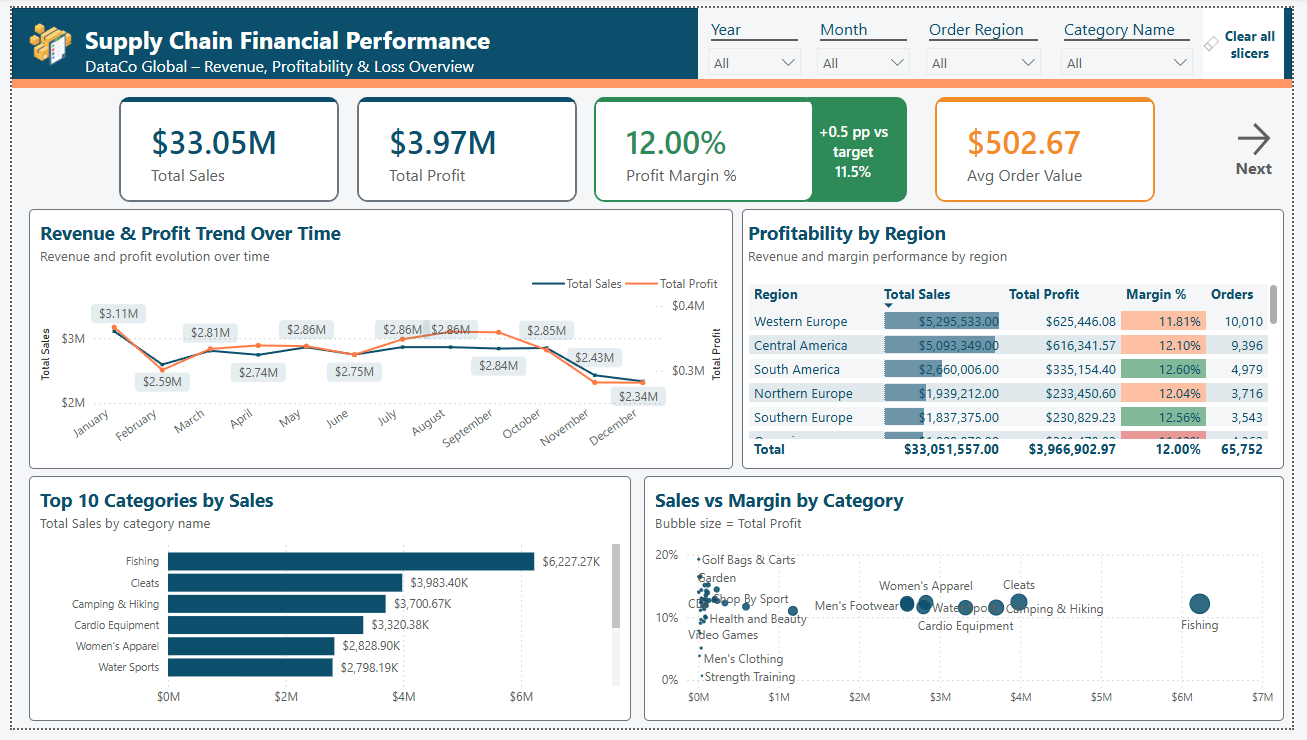

The page's visual inventory and layout, read from the dashboard file:
{"tool":"powerbi","page":{"name":"Supply Chain Executive & Profitability","canvas":[1280,720],"ordinal":0},"visuals":[{"type":"shape","box":[0,0,1280,80],"z":0},{"type":"cardVisual","fields":{"Data":["_Measures.Total Sales"]},"box":[107,88.8,220,105],"z":1000},{"type":"textbox","box":[58,0,618,74],"z":2000},{"type":"image","box":[16.7,14.2,43.3,44.2],"z":3000},{"type":"actionButton","box":[1187,0,85,71],"z":4000},{"type":"cardVisual","fields":{"Data":["_Measures.Total Profit"]},"box":[345,89,220,105],"z":5000},{"type":"cardVisual","fields":{"Data":["_Measures.ProfitMarginDelta"]},"box":[787.1,88.8,108,105],"z":6000},{"type":"cardVisual","fields":{"Data":["_Measures.Profit Margin %"]},"box":[582,88.8,220,105],"z":7000},{"type":"clusteredBarChart","title":"Top 10 Categories by Sales","fields":{"Category":["dim_products.category_name"],"Y":["_Measures.Total Sales"]},"box":[17,468,602,245],"z":8000},{"type":"cardVisual","fields":{"Data":["_Measures.Avg Order Value"]},"box":[923,88.8,220,105],"z":9000},{"type":"slicer","fields":{"Values":["dim_date.Year"]},"box":[686,0,112.9,72.9],"z":10000},{"type":"slicer","fields":{"Values":["dim_date.Month Short"]},"box":[795.2,0,112.7,80],"z":11000},{"type":"slicer","fields":{"Values":["fact_orders.order_region"]},"box":[904,0,135,79],"z":12000},{"type":"slicer","fields":{"Values":["dim_products.category_name"]},"box":[1039,0,152,80],"z":13000},{"type":"shape","box":[0,71.2,1280,8.8],"z":14000},{"type":"lineChart","title":"Revenue & Profit Trend Over Time","fields":{"Y":["_Measures.Total Sales"],"Y2":["_Measures.Total Profit"],"Category":["dim_date.Year","dim_date.Month Name","dim_date.Date"]},"box":[17,201,704,260],"z":15000},{"type":"tableEx","title":"Profitability by Region","fields":{"Values":["fact_orders.order_region","_Measures.Total Sales","_Measures.Total Profit","_Measures.Profit Margin %","_Measures.Total Orders"]},"box":[730,201,542,260],"z":16000},{"type":"scatterChart","title":"Sales vs Margin by Category","fields":{"X":["_Measures.Total Sales"],"Y":["_Measures.Profit Margin %"],"Category":["dim_products.category_name"],"Size":["_Measures.Total Profit"]},"box":[632,468,640,245],"z":17000},{"type":"actionButton","box":[1203,103,77,78],"z":18000}]}

Visuals, with their boxes in screenshot pixels (x1, y1, x2, y2), scaled from the page's 1280x720 canvas onto the 1307x740 screenshot:
shape: left=0, top=0, right=1306, bottom=82
cardVisual - _Measures.Total Sales: left=109, top=91, right=334, bottom=199
textbox: left=59, top=0, right=690, bottom=76
image: left=17, top=15, right=61, bottom=60
actionButton: left=1212, top=0, right=1299, bottom=73
cardVisual - _Measures.Total Profit: left=352, top=91, right=577, bottom=199
cardVisual - _Measures.ProfitMarginDelta: left=804, top=91, right=914, bottom=199
cardVisual - _Measures.Profit Margin %: left=594, top=91, right=819, bottom=199
"Top 10 Categories by Sales" clusteredBarChart: left=17, top=481, right=632, bottom=733
cardVisual - _Measures.Avg Order Value: left=942, top=91, right=1167, bottom=199
slicer - dim_date.Year: left=700, top=0, right=816, bottom=75
slicer - dim_date.Month Short: left=812, top=0, right=927, bottom=82
slicer - fact_orders.order_region: left=923, top=0, right=1061, bottom=81
slicer - dim_products.category_name: left=1061, top=0, right=1216, bottom=82
shape: left=0, top=73, right=1306, bottom=82
"Revenue & Profit Trend Over Time" lineChart: left=17, top=207, right=736, bottom=474
"Profitability by Region" tableEx: left=745, top=207, right=1299, bottom=474
"Sales vs Margin by Category" scatterChart: left=645, top=481, right=1299, bottom=733
actionButton: left=1228, top=106, right=1306, bottom=186
